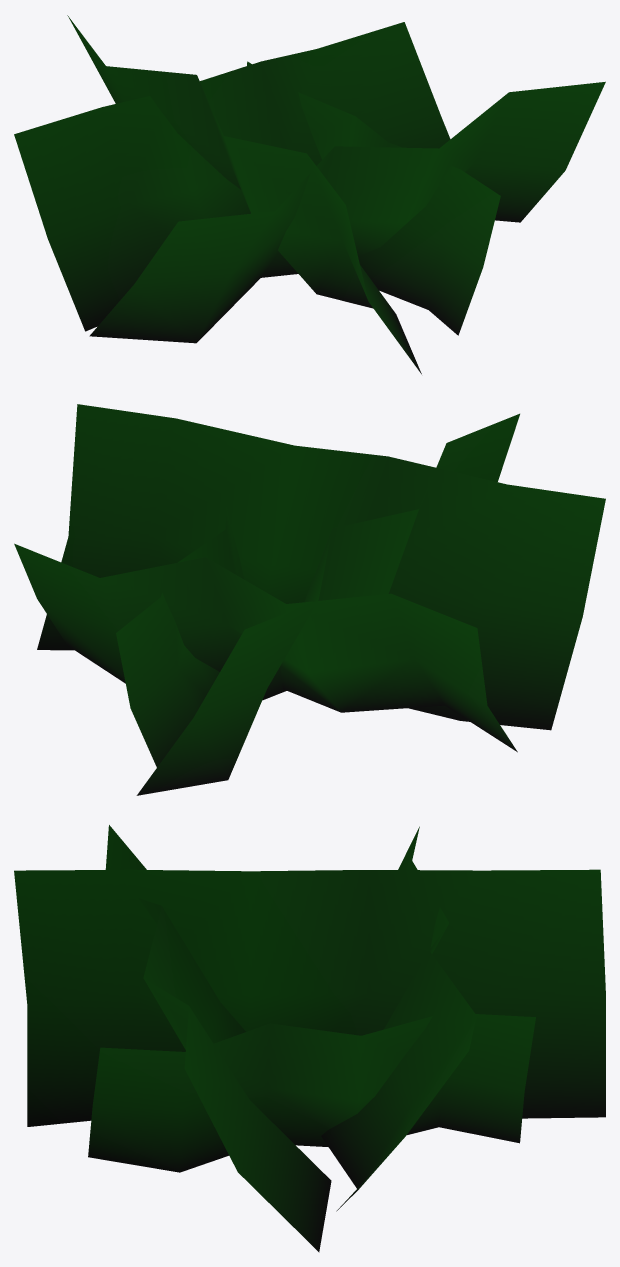
Rendered from WeatStalkTallRHEP_A.fbx.
3 views of the same model, one above another, from view 1: azimuth 30°, elevation 25°; view 2: azimuth 150°, elevation 25°; view 3: azimuth 270°, elevation 25° (orthographic). The views are drawn at different scales.
Visible parts, largest first — view 1: WeatStalkTall_B_LOD0; view 2: WeatStalkTall_B_LOD0; view 3: WeatStalkTall_B_LOD0.
Boxes of the visible parts, x1,y1,x2,y2 form: WeatStalkTall_B_LOD0: (14, 15, 605, 374); WeatStalkTall_B_LOD0: (14, 404, 605, 795); WeatStalkTall_B_LOD0: (14, 825, 605, 1252).
Size of what is drawn, in the model's own units: 3.78 by 1.57 by 3.67.
